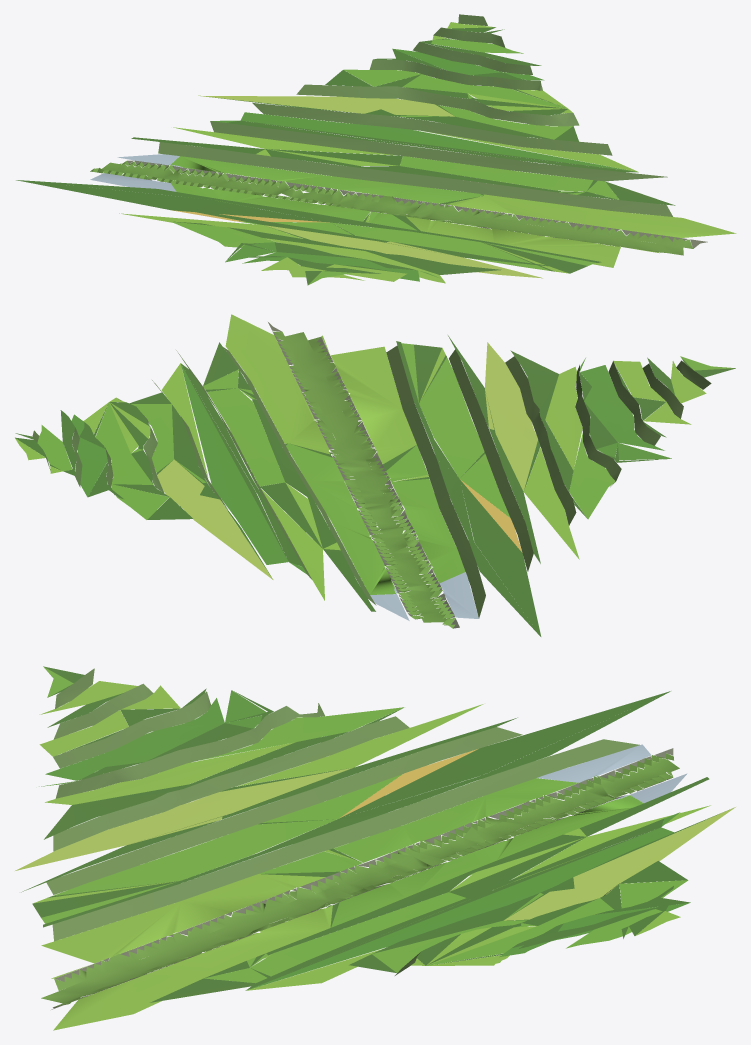
The model's file is payo_land_xm3_y6_lod1.glb.
The picture shows the model from 3 angles, top to bottom: view 1: azimuth 30°, elevation 25°; view 2: azimuth 150°, elevation 25°; view 3: azimuth 270°, elevation 25°; orthographic projection. The views are drawn at different scales.
Visible parts, largest first — view 1: payo_land_xm3_y6; view 2: payo_land_xm3_y6; view 3: payo_land_xm3_y6.
Boxes of the visible parts, x1,y1,x2,y2 form: payo_land_xm3_y6: (16,14,736,285); payo_land_xm3_y6: (15,314,735,636); payo_land_xm3_y6: (15,666,735,1030).
Bounding box in the file's own units: 322 × 42.88 × 299.
